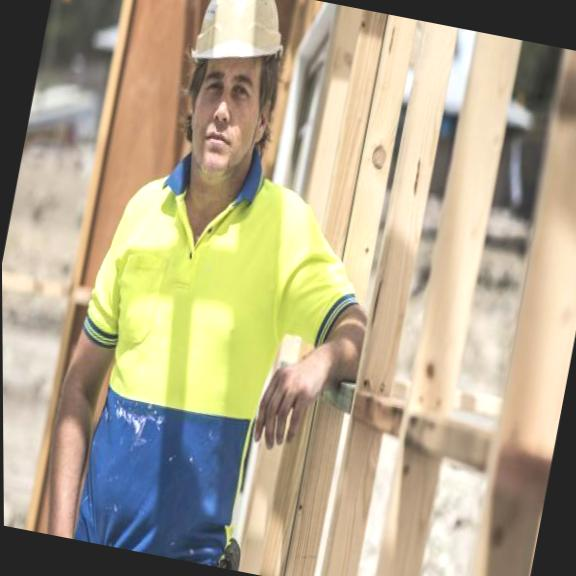no_safety_vest: (43, 137, 338, 575)
